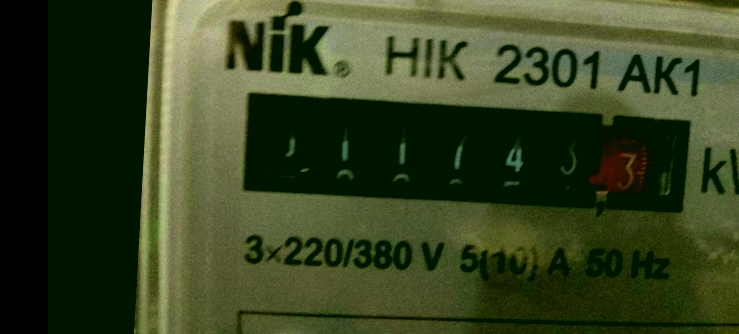0: (271, 111, 303, 160)
1: (391, 119, 414, 168), (336, 116, 355, 165)
3: (554, 130, 585, 178), (614, 147, 640, 192)
4: (501, 126, 531, 175)
7: (447, 124, 473, 173)
screen: (227, 81, 699, 224)
